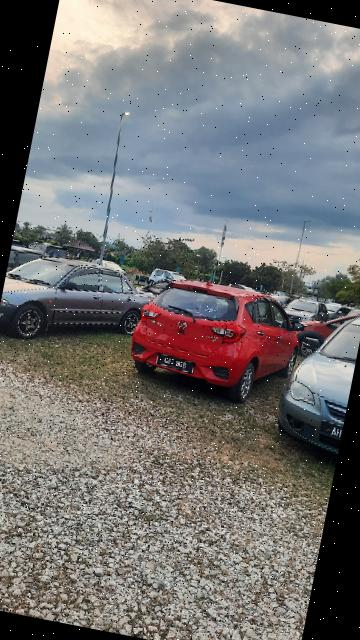License_Plate: (155, 354, 199, 377), (319, 420, 345, 445)
car: (121, 262, 312, 415), (1, 246, 159, 364), (273, 303, 360, 461)
